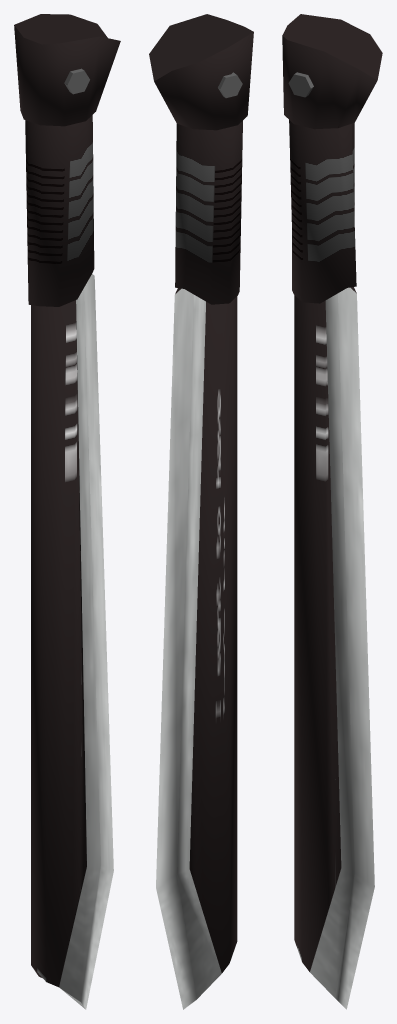
Rendered from ReplikaMachete.fbx.
3 views of the same model, side by side, from view 1: azimuth 30°, elevation 25°; view 2: azimuth 210°, elevation 25°; view 3: azimuth 330°, elevation 25° (orthographic).
Parts seen in each view (by area): view 1: Machete.001; view 2: Machete.001; view 3: Machete.001.
Boxes of the visible parts, bbox=[...] form: Machete.001: bbox=[14, 14, 120, 1009]; Machete.001: bbox=[149, 14, 253, 1009]; Machete.001: bbox=[282, 14, 382, 1009].
Size of the model in its own units: 0.4821 by 0.0469 by 0.0369.
